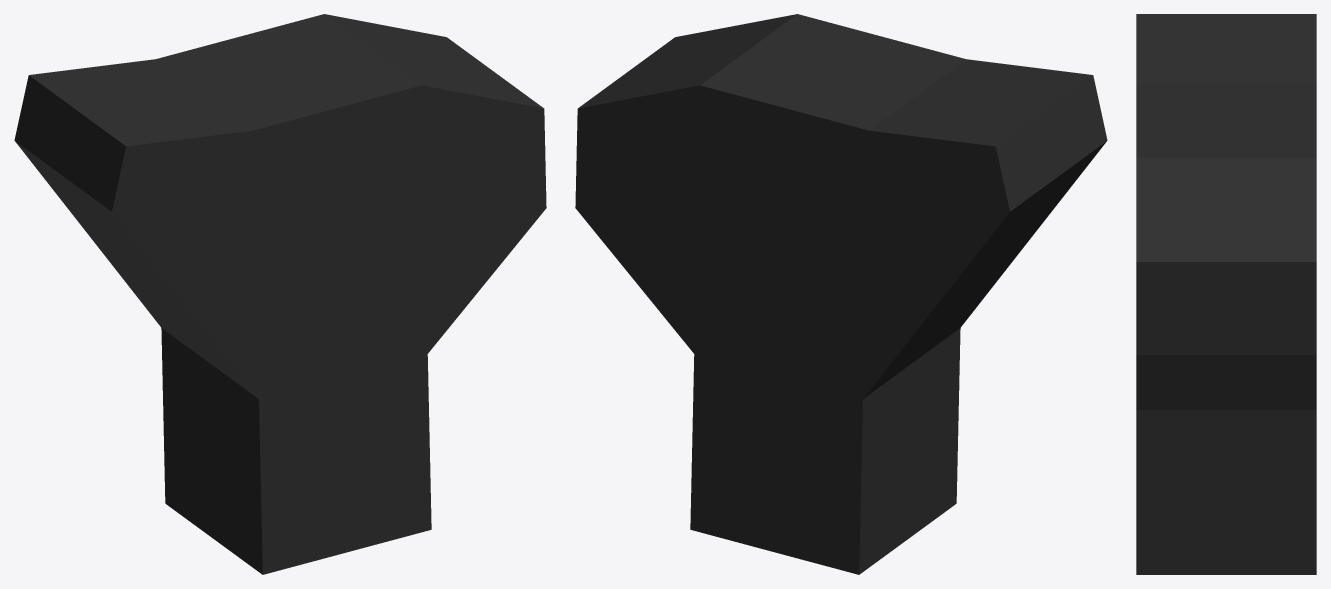
Rendered from Pistol3_02_5.fbx.
3 views of the same model, side by side, from view 1: azimuth 30°, elevation 25°; view 2: azimuth 150°, elevation 25°; view 3: azimuth 270°, elevation 25° (orthographic). The views are drawn at different scales.
Visible parts, largest first — view 1: Pistol3_02_5; view 2: Pistol3_02_5; view 3: Pistol3_02_5.
Boxes of the visible parts, left/top/right/bottom form: Pistol3_02_5: left=14, top=14, right=546, bottom=574; Pistol3_02_5: left=575, top=14, right=1107, bottom=574; Pistol3_02_5: left=1136, top=14, right=1316, bottom=574.
Size of the model in its own units: 0.0333 by 0.0339 by 0.013.
